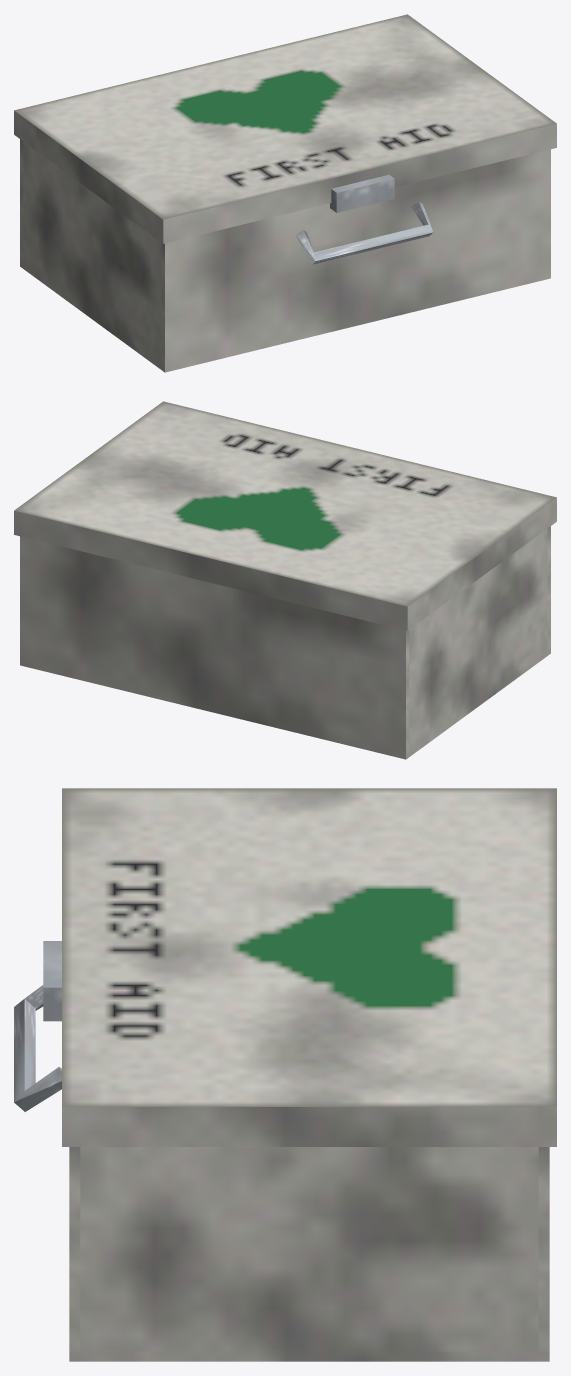
The model's file is first_aid_box.fbx.
3 views of the same model, one above another, from view 1: azimuth 30°, elevation 25°; view 2: azimuth 150°, elevation 25°; view 3: azimuth 270°, elevation 25° (orthographic). The views are drawn at different scales.
Visible parts, largest first — view 1: first_aid_box_lid, first_aid_box; view 2: first_aid_box_lid, first_aid_box; view 3: first_aid_box_lid, first_aid_box.
Boxes of the visible parts, box(x1,y1,x2,y2) form: first_aid_box_lid: box(14, 14, 556, 243); first_aid_box: box(20, 139, 550, 372); first_aid_box_lid: box(14, 401, 556, 630); first_aid_box: box(20, 526, 550, 759); first_aid_box_lid: box(43, 788, 556, 1146); first_aid_box: box(14, 985, 549, 1361).
Bounding box in the file's own units: 0.204 × 0.077 × 0.147.
Materials: 1 (1 with a texture image).
